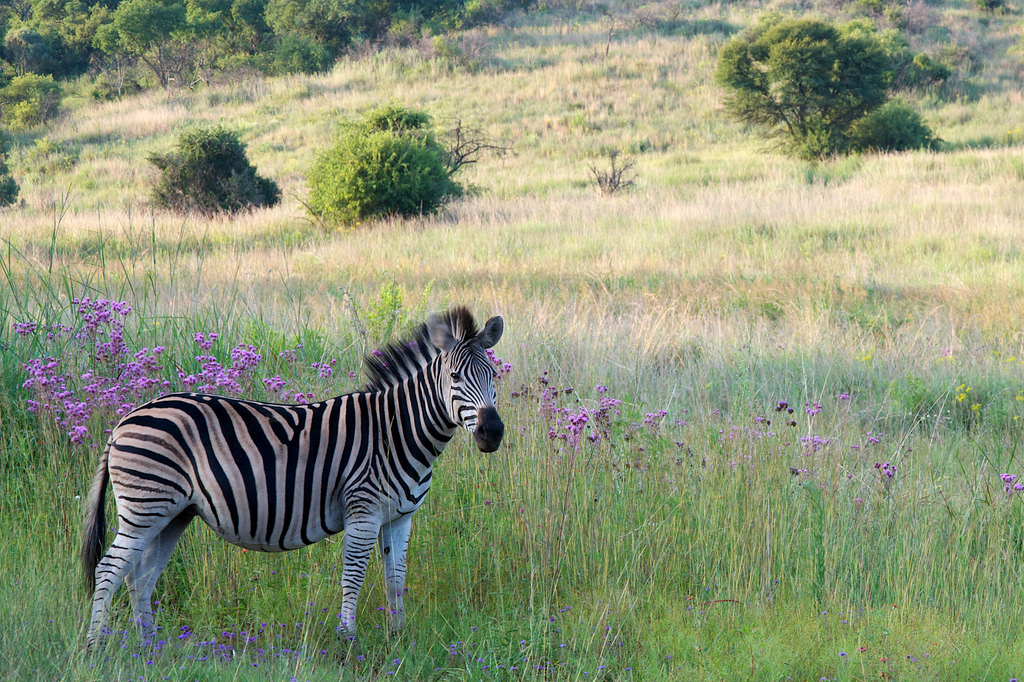zebra: (74, 305, 503, 640)
